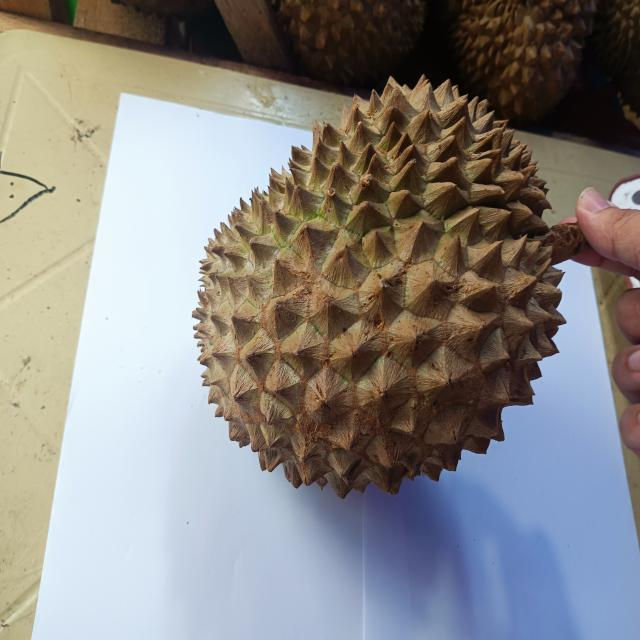mature: (193, 76, 590, 498)
